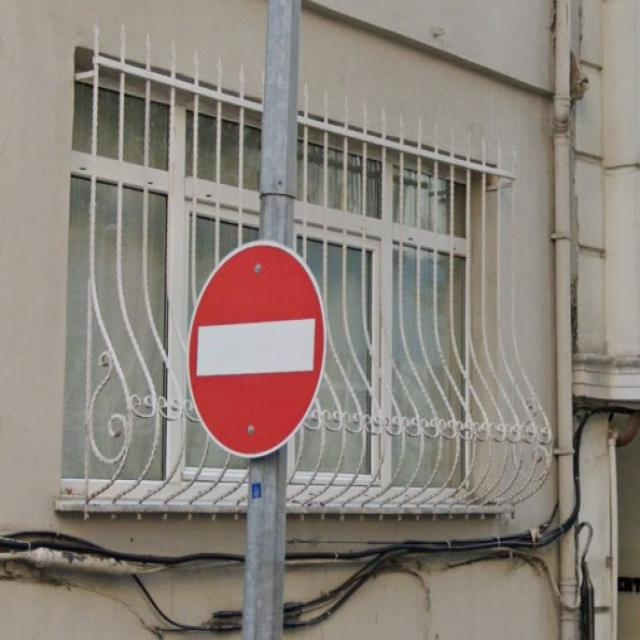girisyok: (188, 240, 326, 458)
